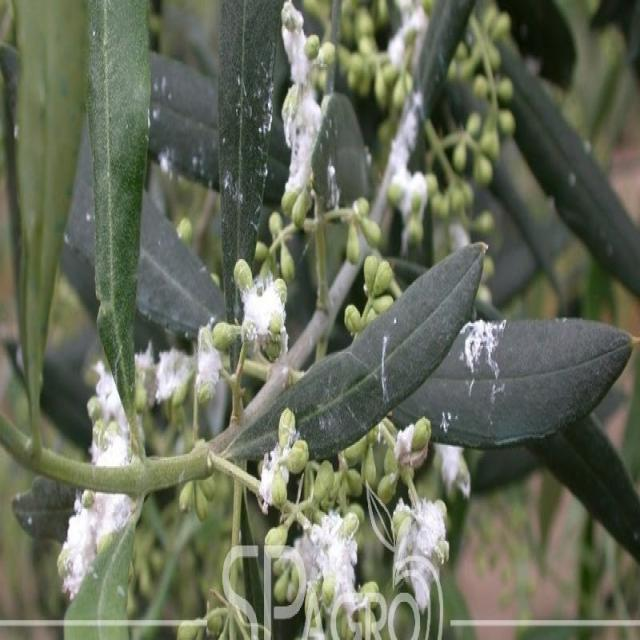Psyllid: (282, 0, 334, 213), (57, 491, 136, 600), (295, 510, 359, 638), (391, 498, 450, 617), (234, 259, 288, 378), (86, 360, 138, 466), (258, 408, 308, 514), (459, 320, 510, 401), (135, 343, 195, 408), (194, 323, 223, 405), (394, 418, 431, 472)
